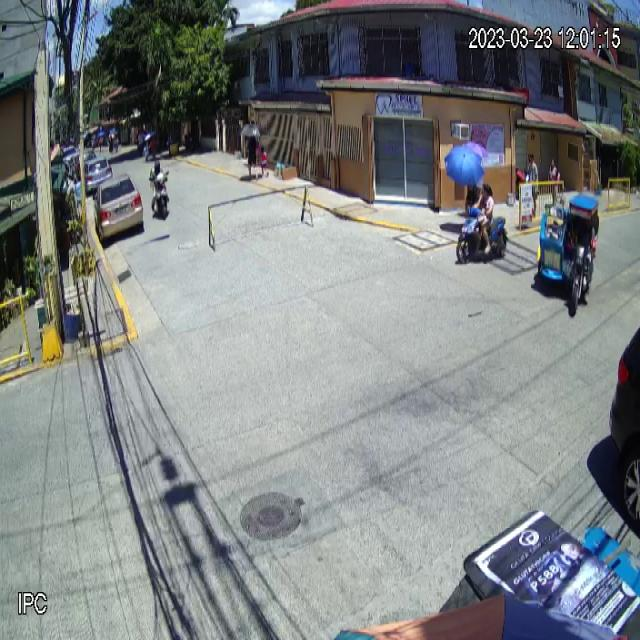Motorcycle: (450, 198, 511, 266)
Tricycle: (534, 190, 599, 314)
